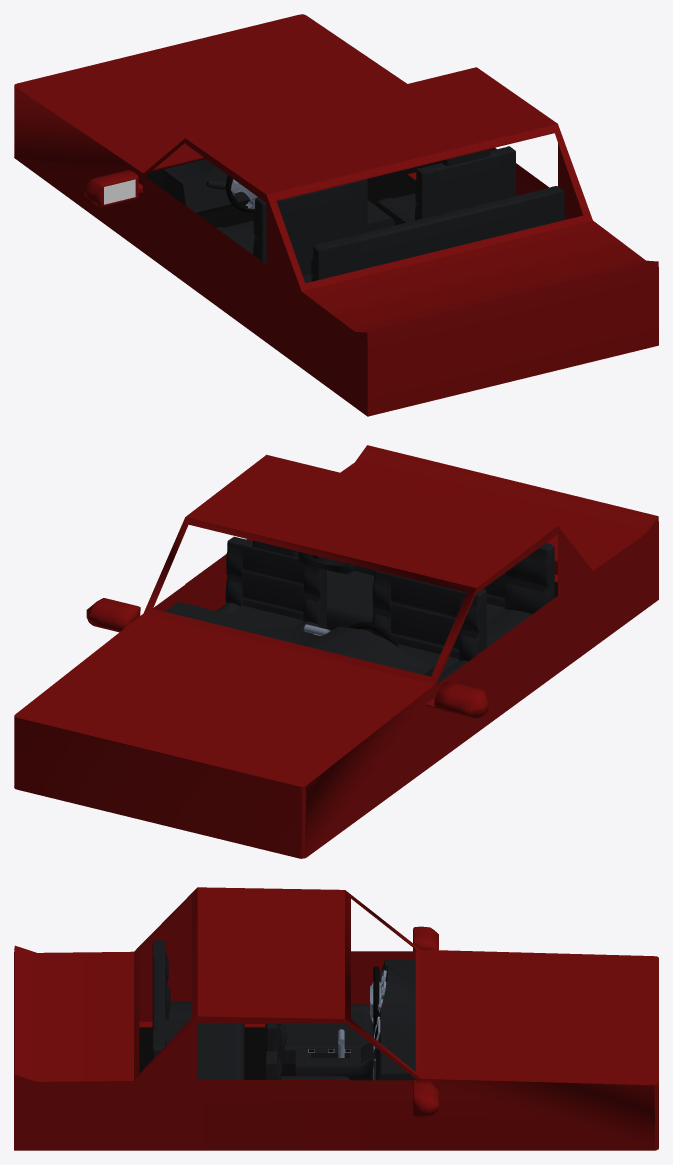
The model's file is full car model 1.fbx.
The picture shows the model from 3 angles, top to bottom: view 1: azimuth 30°, elevation 25°; view 2: azimuth 150°, elevation 25°; view 3: azimuth 270°, elevation 25°; orthographic projection. The views are drawn at different scales.
Visible parts, largest first — view 1: Box001, Back seat, Front seat, passenger seat, Dashboard, Plane001, Left side mirror shell, Steering wheel, Left side mirror; view 2: Box001, Front seat, passenger seat, Back seat, Dashboard, Left side mirror shell, Right side mirror shell, Rearview mirror shell; view 3: Box001, Dashboard, Back seat, Front seat, Plane001, passenger seat, Right side mirror shell, Left side mirror shell, Steering wheel.
Boxes of the visible parts, x1,y1,x2,y2 form: Box001: [14, 14, 658, 416]; Back seat: [302, 186, 564, 283]; Front seat: [216, 179, 367, 275]; passenger seat: [375, 146, 515, 225]; Dashboard: [163, 159, 441, 231]; Plane001: [145, 158, 415, 227]; Left side mirror shell: [84, 170, 142, 207]; Steering wheel: [225, 175, 257, 212]; Left side mirror: [104, 179, 135, 204]; Box001: [14, 445, 658, 858]; Front seat: [371, 570, 486, 683]; passenger seat: [216, 536, 326, 633]; Back seat: [327, 543, 554, 647]; Dashboard: [165, 601, 437, 684]; Left side mirror shell: [426, 681, 488, 718]; Right side mirror shell: [86, 598, 140, 632]; Rearview mirror shell: [298, 551, 354, 573]; Box001: [14, 887, 658, 1150]; Dashboard: [295, 959, 416, 1080]; Back seat: [152, 940, 244, 1079]; Front seat: [277, 1004, 373, 1063]; Plane001: [139, 1027, 374, 1080]; passenger seat: [265, 1024, 349, 1080]; Right side mirror shell: [413, 1079, 438, 1117]; Left side mirror shell: [413, 926, 438, 951]; Steering wheel: [370, 966, 381, 1028].
Size of the model in its own units: 118 by 42.11 by 183.
